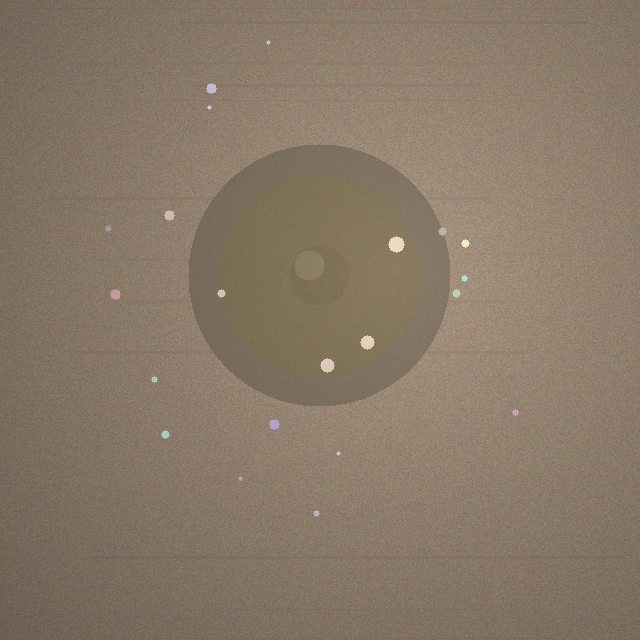overburn: (188, 144, 450, 406)
